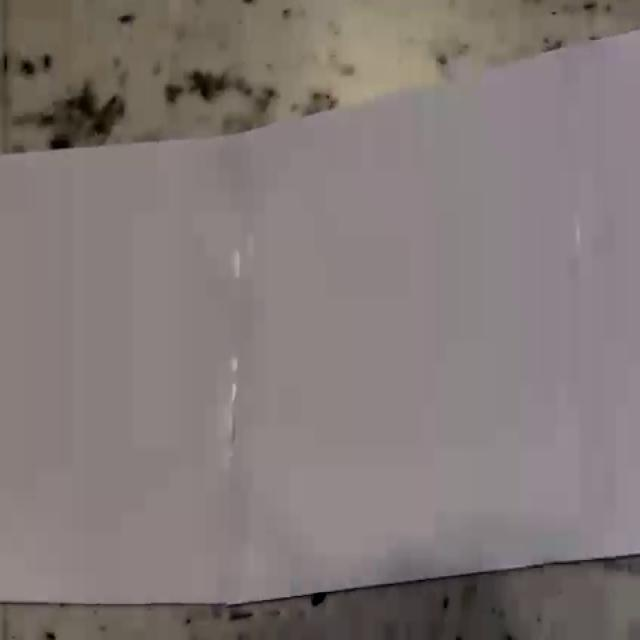road: (0, 31, 640, 603)
